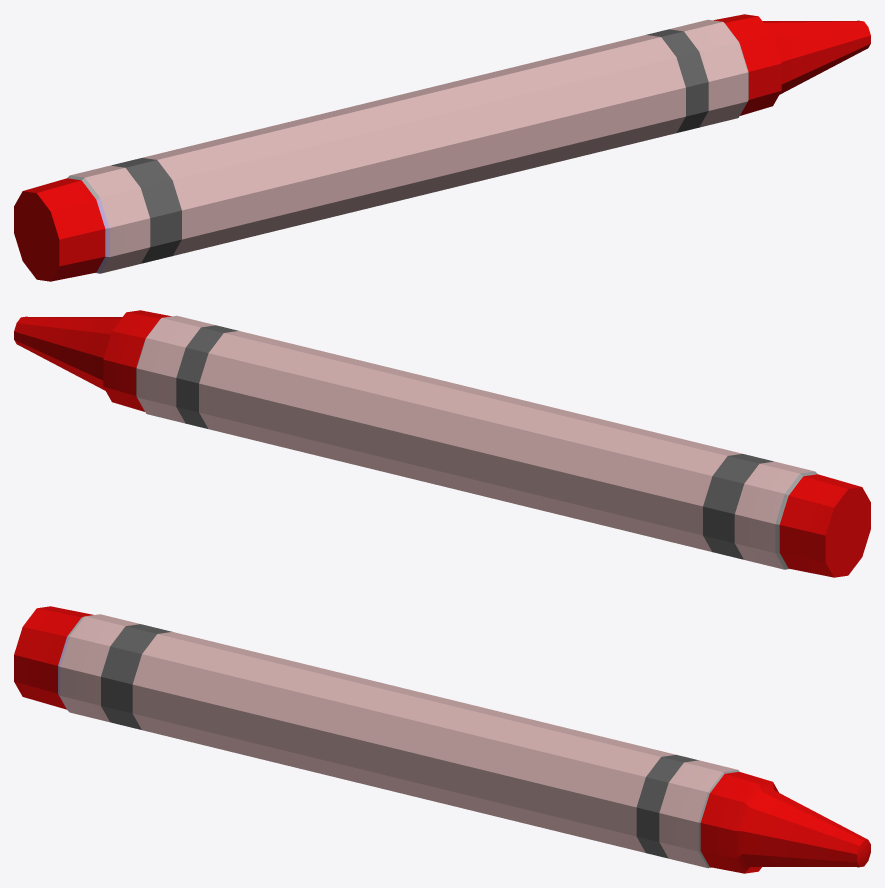
Rendered from Crayon_Red.fbx.
3 renders of one model, top to bottom at view 1: azimuth 30°, elevation 25°; view 2: azimuth 150°, elevation 25°; view 3: azimuth 330°, elevation 25°, orthographic.
Visible parts, largest first — view 1: pCylinder11; view 2: pCylinder11; view 3: pCylinder11.
Part boxes in pixels (x1=…): pCylinder11: x1=14, y1=14, x2=870, y2=281; pCylinder11: x1=14, y1=310, x2=870, y2=577; pCylinder11: x1=14, y1=606, x2=870, y2=873.
Size of the model in its own units: 9.4 by 1.02 by 0.9667.
